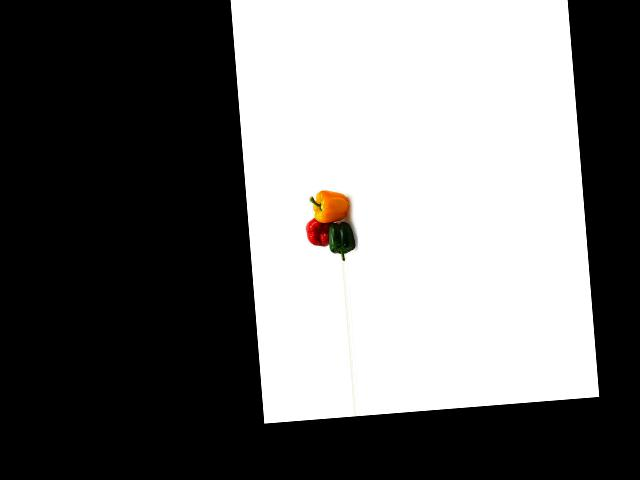bell_pepper: (323, 214, 356, 258)
